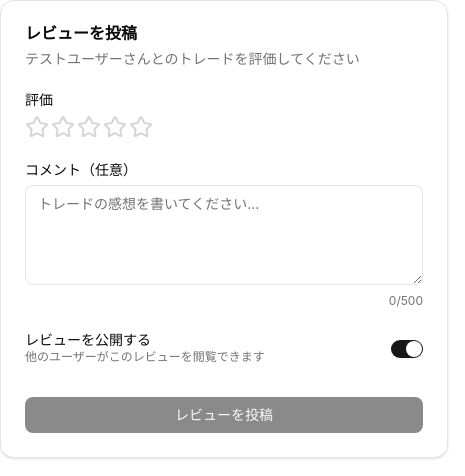
Test: ReviewForm › 評価選択 › 星をクリックすると評価が設定される
Click the button named "3つ星": {"x": 89, "y": 127} top-left (77, 115), bottom-right (101, 139)
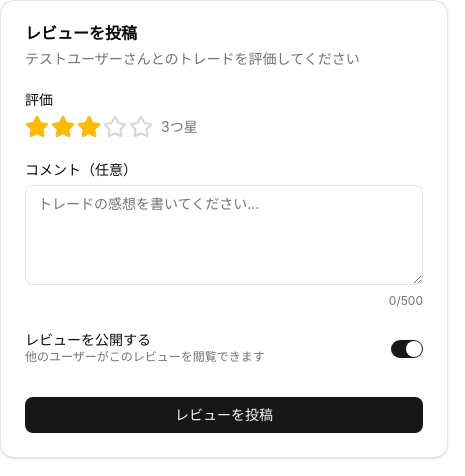
Now the text "3つ星" is shown, box top-left (161, 117), bottom-right (198, 137)
